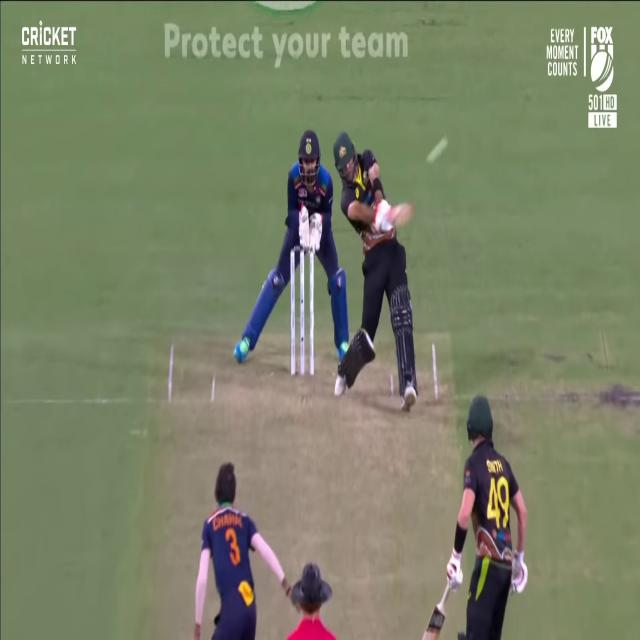ball: (424, 134, 448, 167)
stump: (290, 244, 314, 374)
